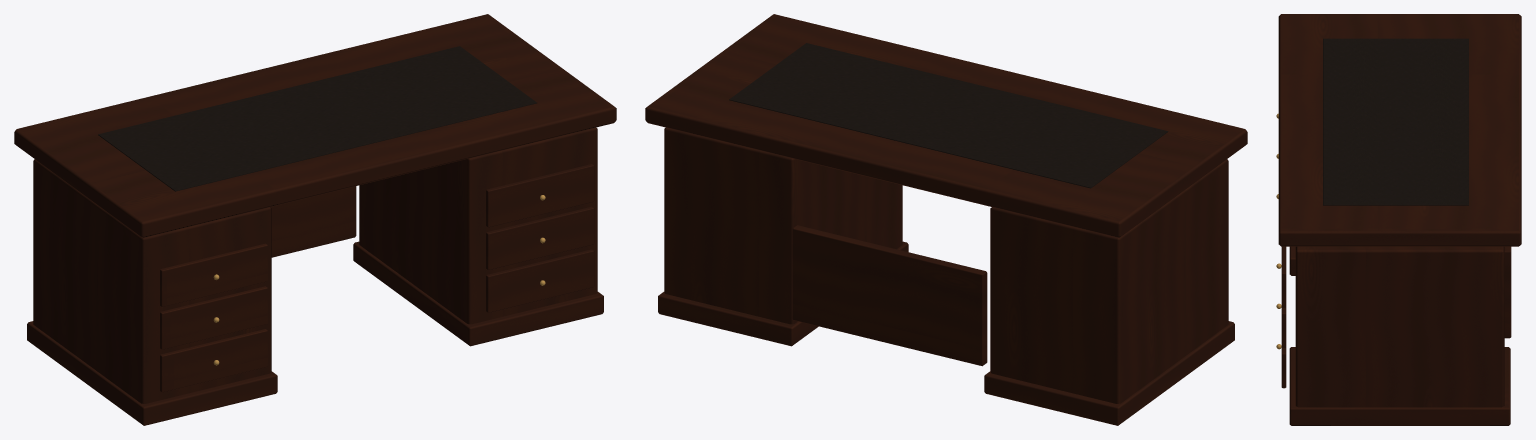
The model's file is executive_lod1.glb.
The picture shows the model from 3 angles, left to right: view 1: azimuth 30°, elevation 25°; view 2: azimuth 150°, elevation 25°; view 3: azimuth 270°, elevation 25°; orthographic projection. The views are drawn at different scales.
Visible parts, largest first — view 1: BATCH_Desk_Luxury_LOD1_Desk_Luxury_Body, BATCH_Desk_Luxury_LOD1_Desk_Luxury_Surface, BATCH_Desk_Luxury_LOD1_Desk_Luxury_Leather; view 2: BATCH_Desk_Luxury_LOD1_Desk_Luxury_Body, BATCH_Desk_Luxury_LOD1_Desk_Luxury_Surface, BATCH_Desk_Luxury_LOD1_Desk_Luxury_Leather; view 3: BATCH_Desk_Luxury_LOD1_Desk_Luxury_Body, BATCH_Desk_Luxury_LOD1_Desk_Luxury_Surface, BATCH_Desk_Luxury_LOD1_Desk_Luxury_Leather.
Boxes of the visible parts, <box> form: BATCH_Desk_Luxury_LOD1_Desk_Luxury_Body: <box>27,127,603,425</box>; BATCH_Desk_Luxury_LOD1_Desk_Luxury_Surface: <box>14,14,616,237</box>; BATCH_Desk_Luxury_LOD1_Desk_Luxury_Leather: <box>98,46,536,191</box>; BATCH_Desk_Luxury_LOD1_Desk_Luxury_Body: <box>658,127,1234,425</box>; BATCH_Desk_Luxury_LOD1_Desk_Luxury_Surface: <box>645,14,1247,237</box>; BATCH_Desk_Luxury_LOD1_Desk_Luxury_Leather: <box>729,43,1168,188</box>; BATCH_Desk_Luxury_LOD1_Desk_Luxury_Body: <box>1281,246,1511,425</box>; BATCH_Desk_Luxury_LOD1_Desk_Luxury_Surface: <box>1278,14,1521,246</box>; BATCH_Desk_Luxury_LOD1_Desk_Luxury_Leather: <box>1323,38,1468,205</box>.
Bounding box in the file's own units: 1.92 × 0.813 × 0.908.
4 materials, 3 textured.
